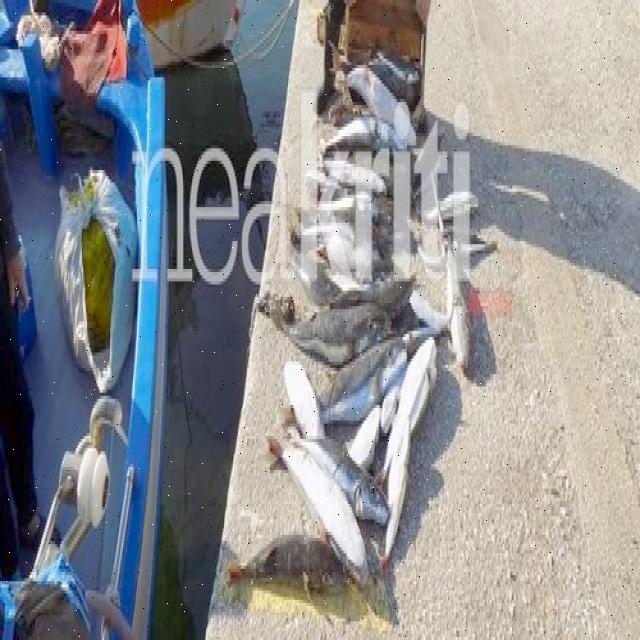Balik: (237, 300, 435, 587)
